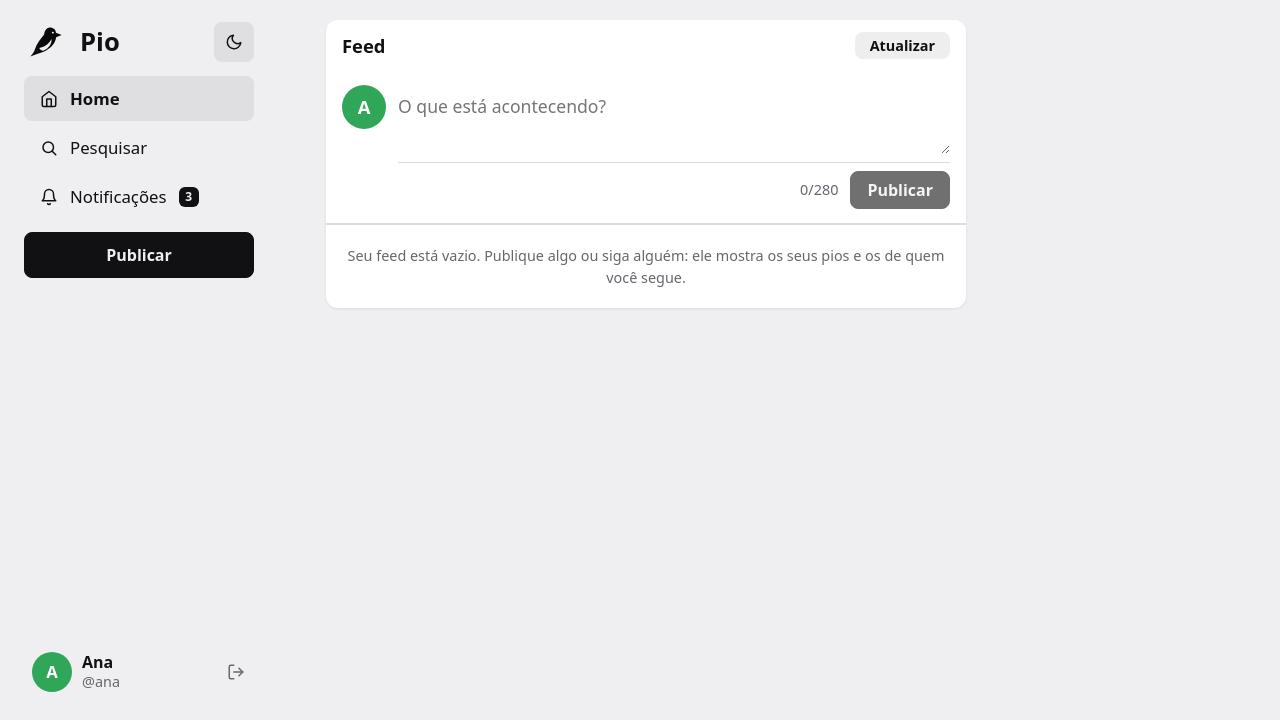
notificações › o sino mostra quantas novidades há; abrir a página zera o número
Click the link with aria-label "Notificações (3 novas)". click: (119, 197)
box: top-left (40, 185), bottom-right (199, 208)
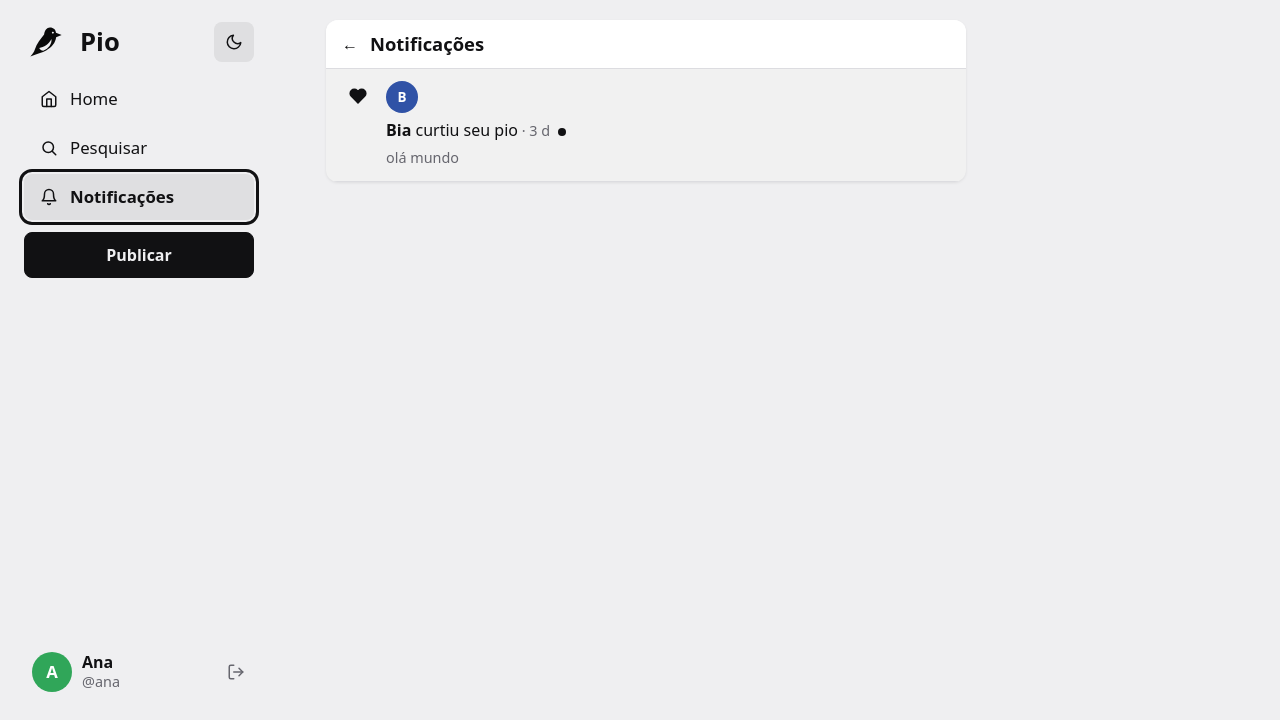
Expected: the link "Notificações" is shown, top-left (24, 174), bottom-right (254, 220)
Expected: the link "B Bia curtiu seu pio · 3 d olá mundo" is shown, top-left (326, 69), bottom-right (966, 182)
